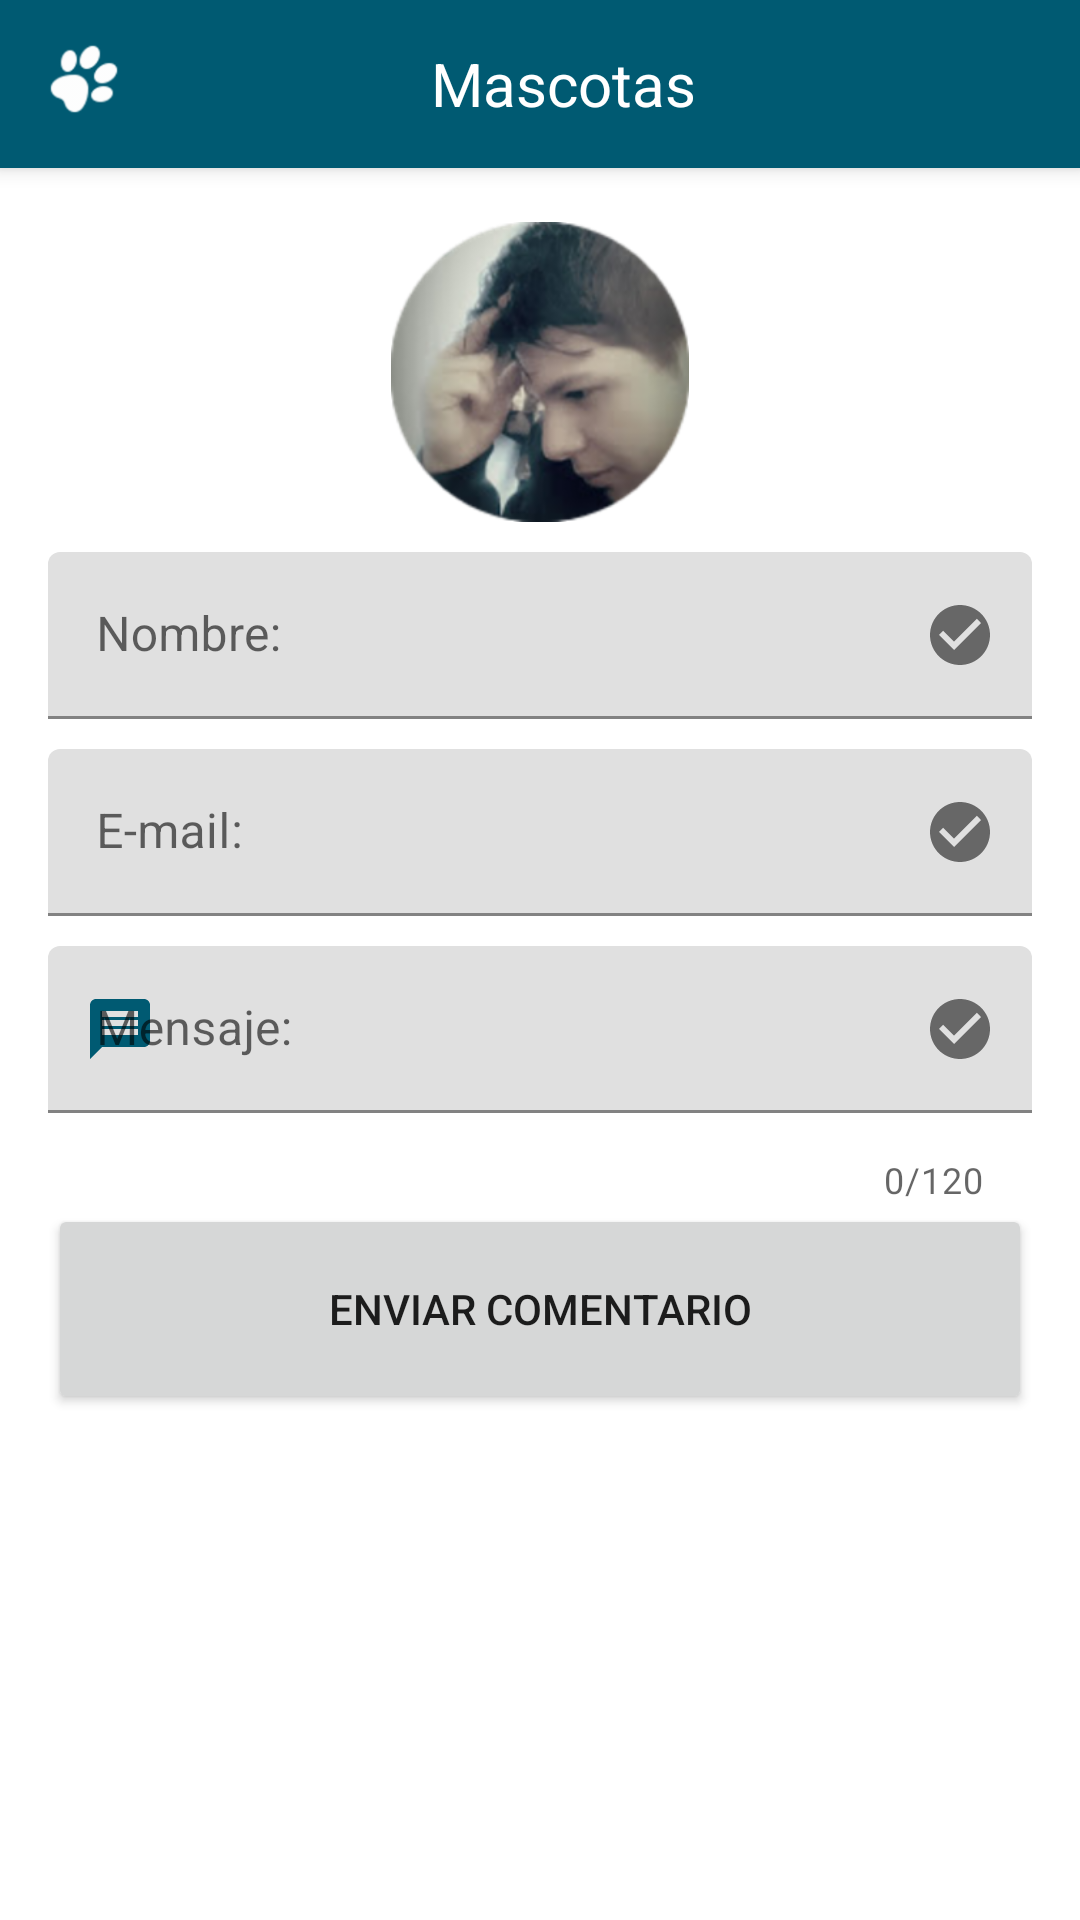

Screen size 1080×1920. Icon name, then its center in pixels as (x,y):
mano pet: (84,79)
